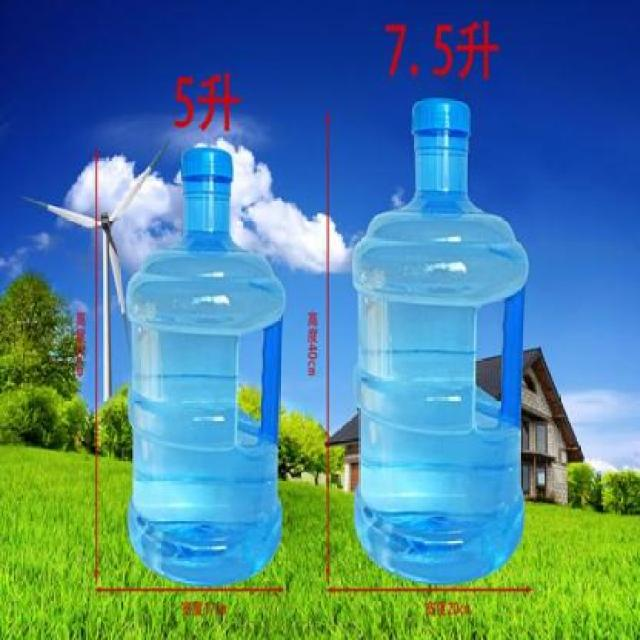coolerbottle: (350, 92, 532, 587), (124, 135, 290, 593)
